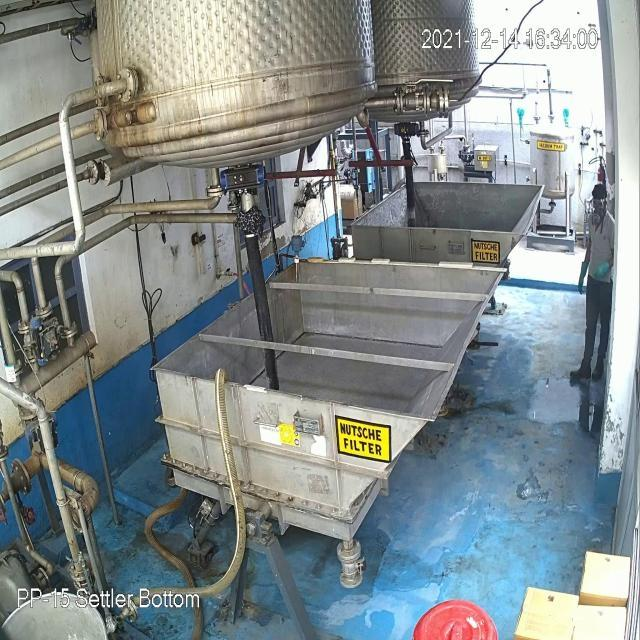hairnet: (590, 204, 616, 223)
